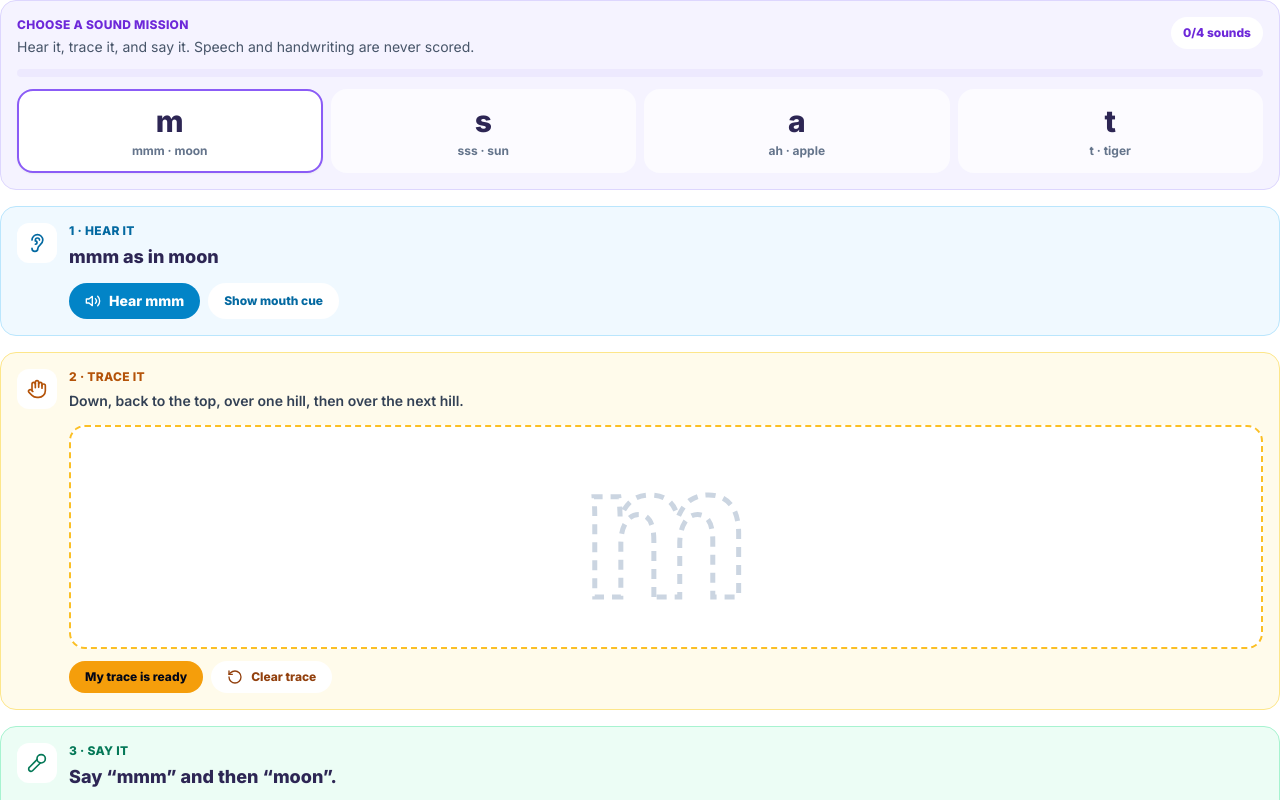
DyslexiaPhonicsTraceActivity › accepts a finger or pointer stroke as a completed trace
Press the mouse on the picture named "Tracing pad for lowercase m" at (666, 537), box [69,425,1263,649]
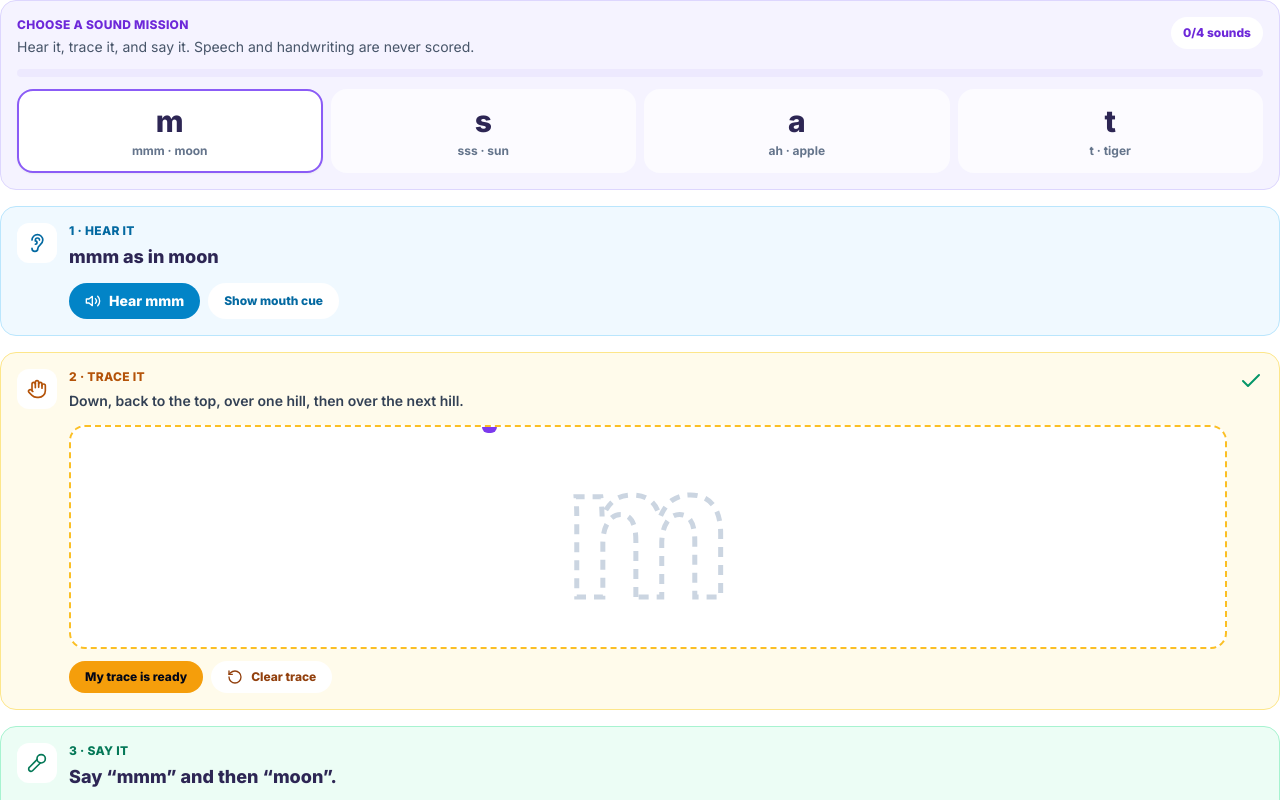
expect the icon named "Tracing step complete" is shown: met, box [1239,369,1263,393]
